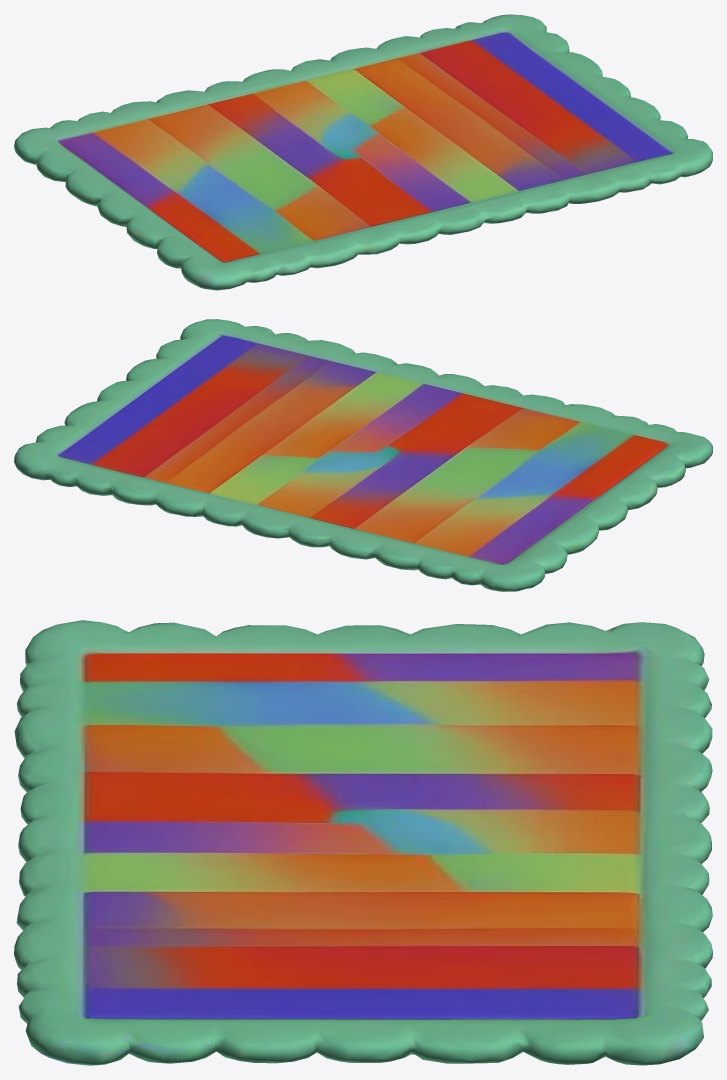
File: carpet_colorful.glb
The picture shows the model from 3 angles, top to bottom: view 1: azimuth 30°, elevation 25°; view 2: azimuth 150°, elevation 25°; view 3: azimuth 270°, elevation 25°; orthographic projection. The views are drawn at different scales.
Visible parts, largest first — view 1: textured_mesh.obj; view 2: textured_mesh.obj; view 3: textured_mesh.obj.
Part boxes in pixels (x1,y1,x2,y2): textured_mesh.obj: [14, 14, 712, 290]; textured_mesh.obj: [14, 319, 712, 591]; textured_mesh.obj: [14, 620, 712, 1065].
Size of what is drawn, in the model's own units: 2.2 by 0.0688 by 1.52.
1 material, 1 textured.
